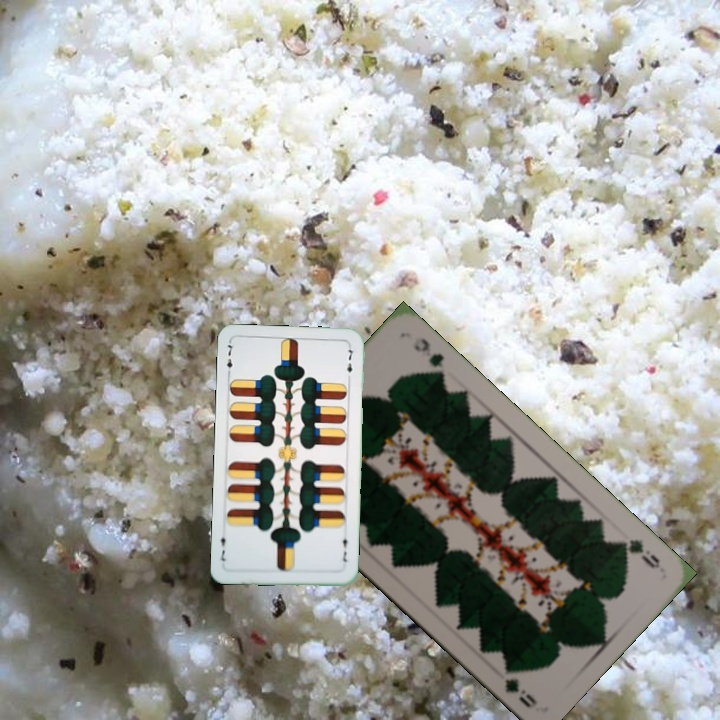E7: (223, 339, 236, 379), (338, 531, 351, 565)
G9: (613, 534, 663, 572)
